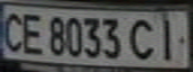0: (63, 14, 84, 57)
3: (100, 15, 127, 61), (81, 13, 106, 60)
8: (42, 12, 66, 57)
C: (127, 15, 163, 62), (0, 8, 30, 54)
E: (18, 9, 48, 56)
I: (151, 14, 187, 62)
